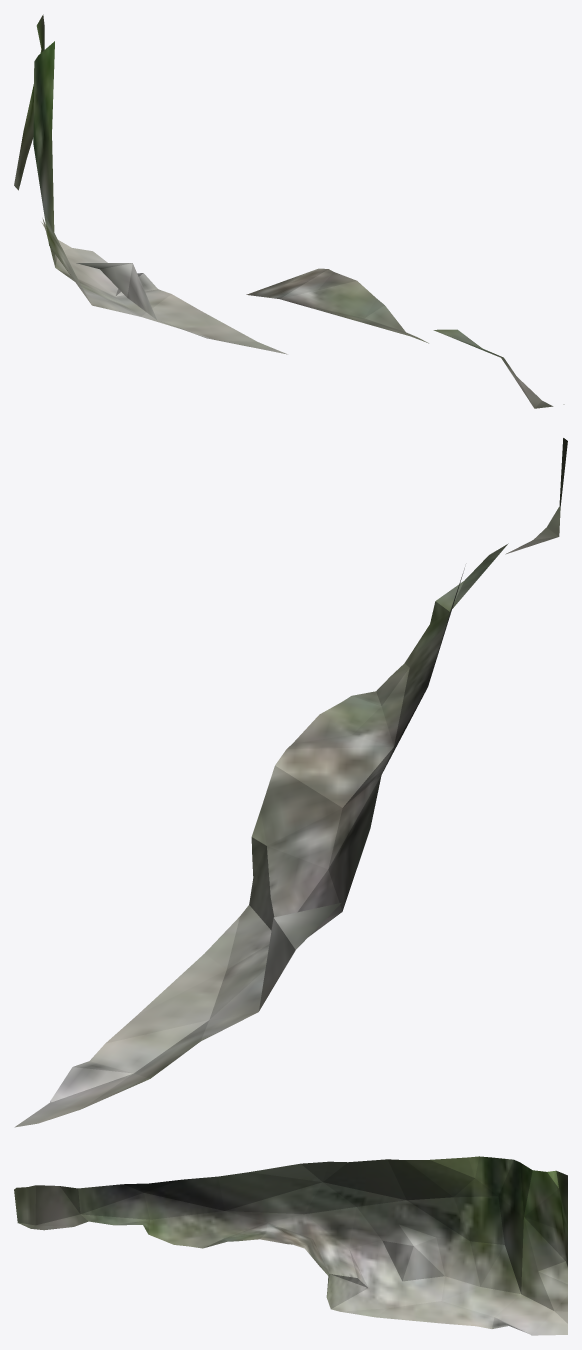
3 renders of one model, top to bottom at view 1: azimuth 30°, elevation 25°; view 2: azimuth 150°, elevation 25°; view 3: azimuth 270°, elevation 25°, orthographic. The views are drawn at different scales.
Size of the model in its own units: 2.9 by 4.58 by 15.76.
Materials: 1 (1 with a texture image).
